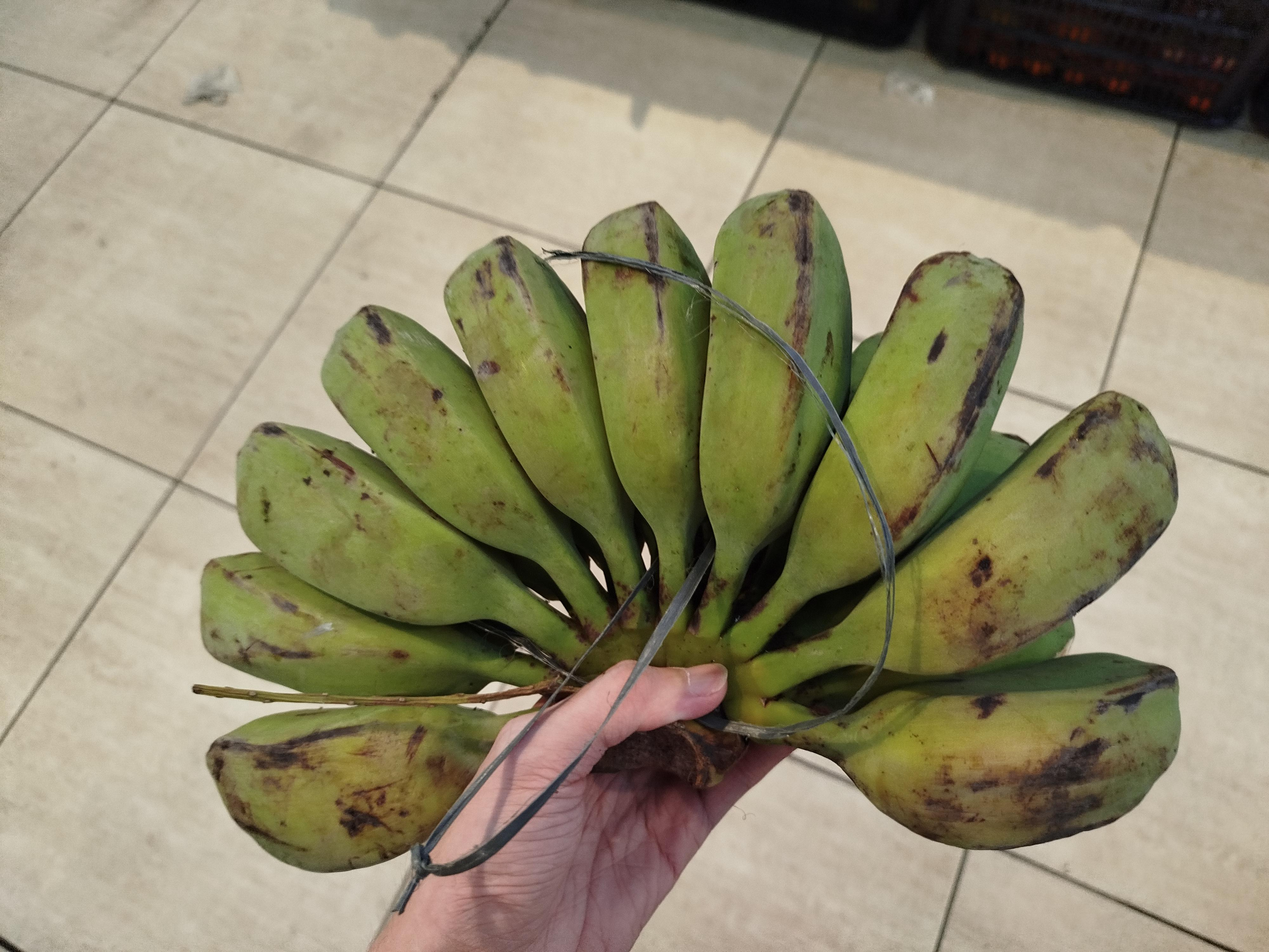underripe: (201, 190, 1180, 872)
